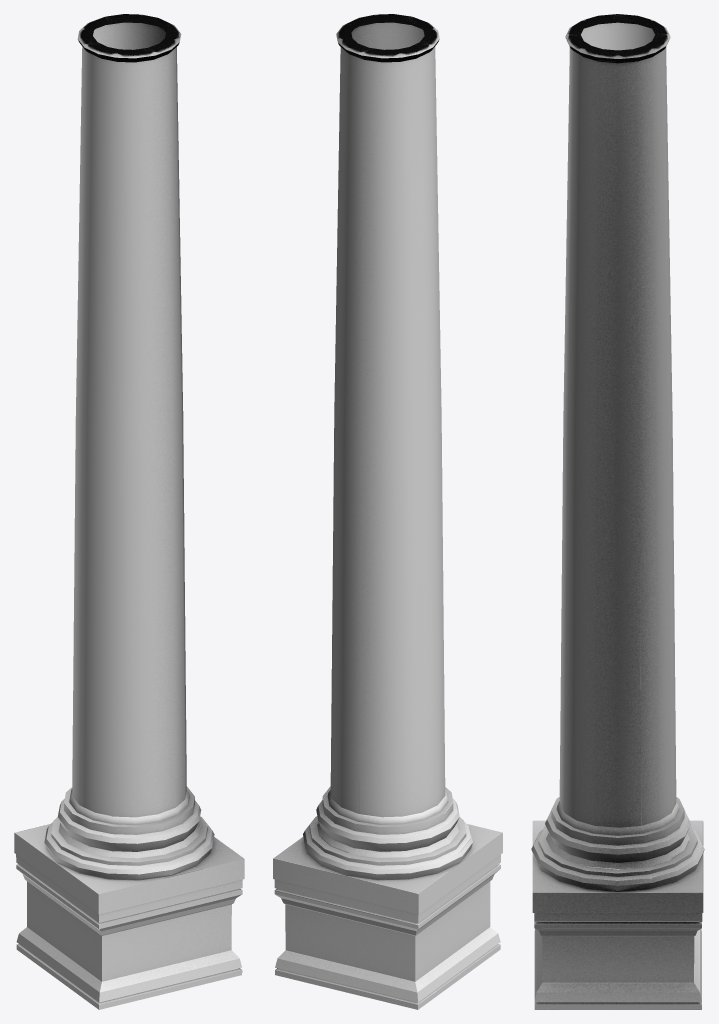
File: column-court.glb
3 views of the same model, side by side, from view 1: azimuth 30°, elevation 25°; view 2: azimuth 150°, elevation 25°; view 3: azimuth 270°, elevation 25° (orthographic).
Visible parts, largest first — view 1: sockel; view 2: sockel; view 3: sockel.
Boxes of the visible parts, bbox=[...] form: sockel: bbox=[14, 14, 244, 1009]; sockel: bbox=[273, 14, 502, 1009]; sockel: bbox=[531, 14, 704, 1009].
Size of the model in its own units: 0.6941 by 4.15 by 0.6941.
1 material, 1 textured.
